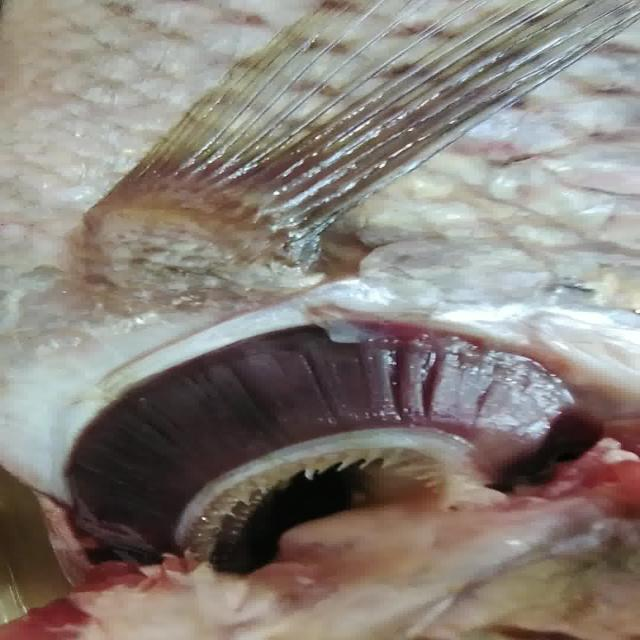Non-Fresh: (79, 313, 539, 548)
